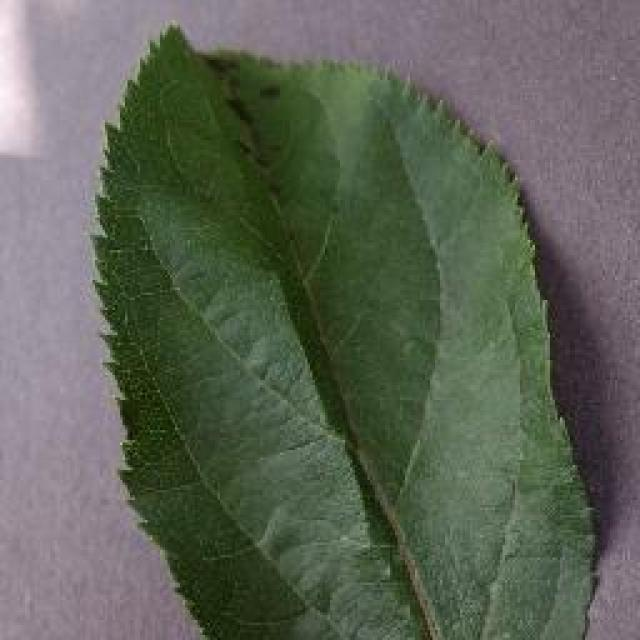apple scab disease: (87, 20, 605, 638)
